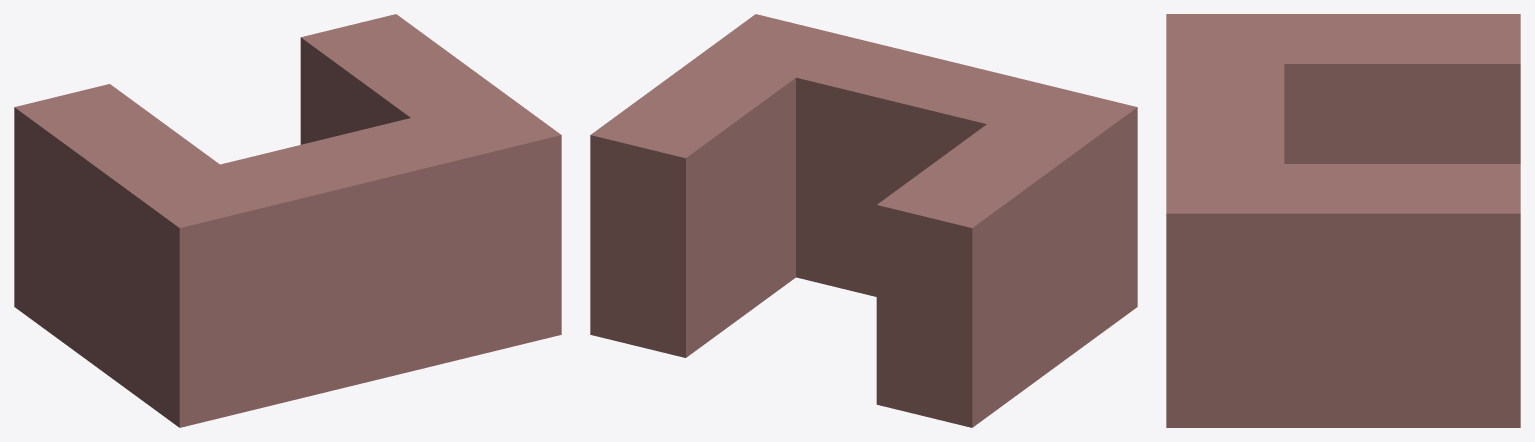
File: walls.dae
3 renders of one model, left to right at view 1: azimuth 30°, elevation 25°; view 2: azimuth 150°, elevation 25°; view 3: azimuth 270°, elevation 25°, orthographic. The views are drawn at different scales.
Parts seen in each view (by area): view 1: node0; view 2: node0; view 3: node0.
Boxes of the visible parts, box(x1,y1,x2,y2) form: node0: box(14, 14, 561, 427); node0: box(590, 14, 1137, 427); node0: box(1166, 14, 1520, 427).
Size of the model in its own units: 0.02 by 0.015 by 0.01.
